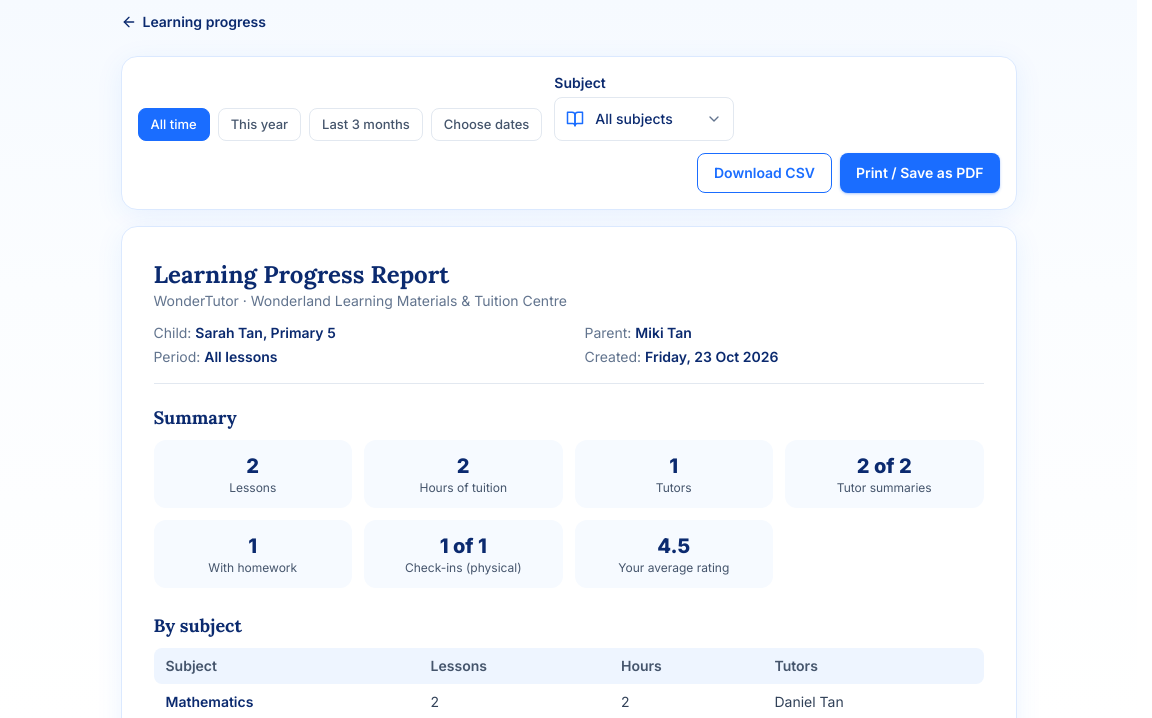
Test: progress report › refuses a period that ends before it starts, without asking the server
This screenshot has width=1152, height=718.
Check: the heading "Learning Progress Report" is shown, box [154, 259, 449, 290]
Click the radio button labelled "Choose dates".
click(487, 125)  # box [431, 108, 542, 141]
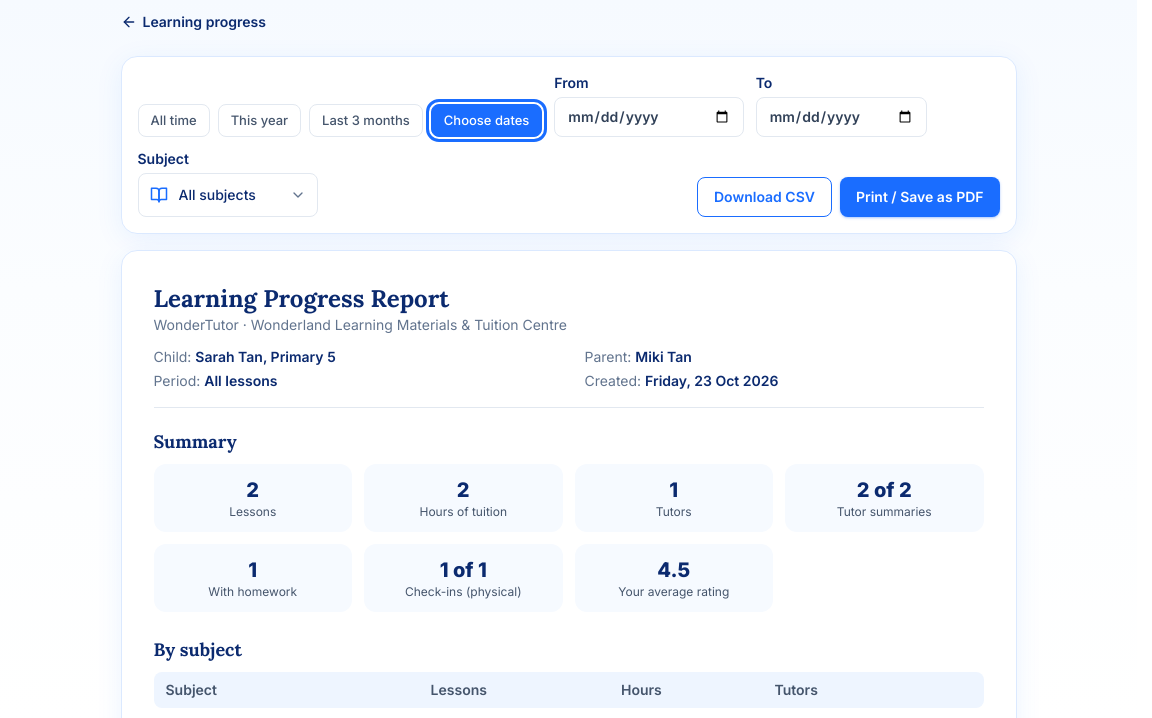
Type "2026-01-01" into the date field labelled "To".
click(841, 117); type("2026-01-01")  # box [756, 97, 927, 137]
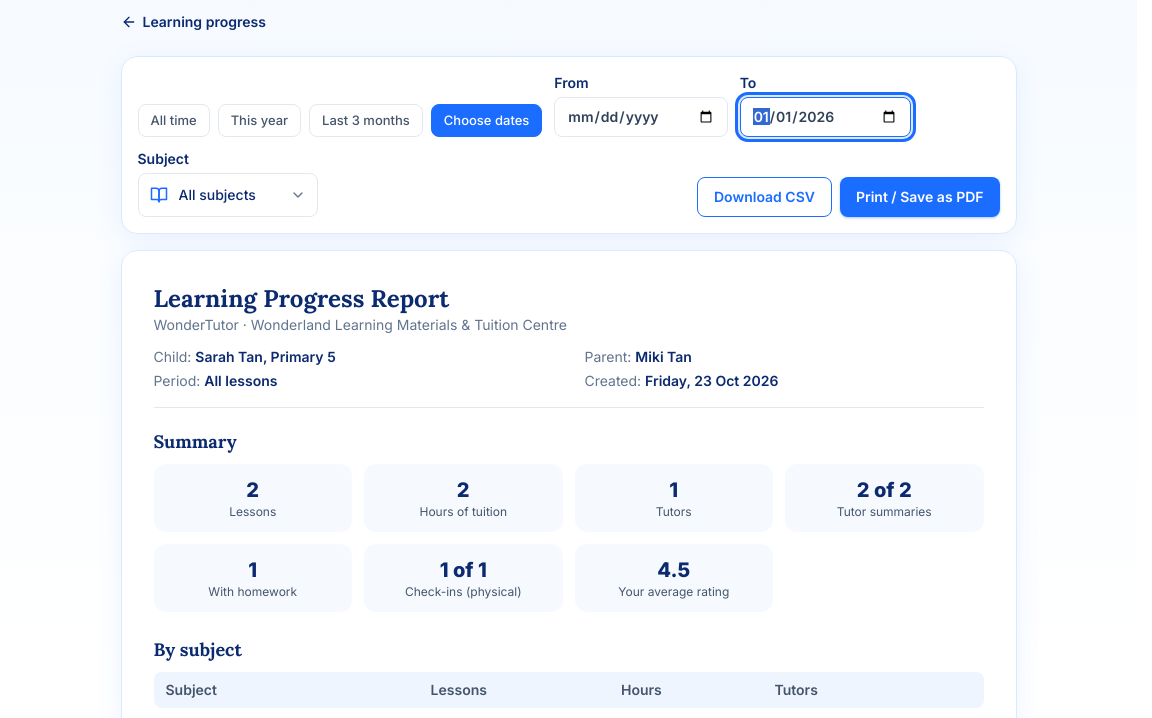
Type "2026-06-01" into the date field labelled "From".
click(641, 117); type("2026-06-01")  # box [554, 97, 728, 137]
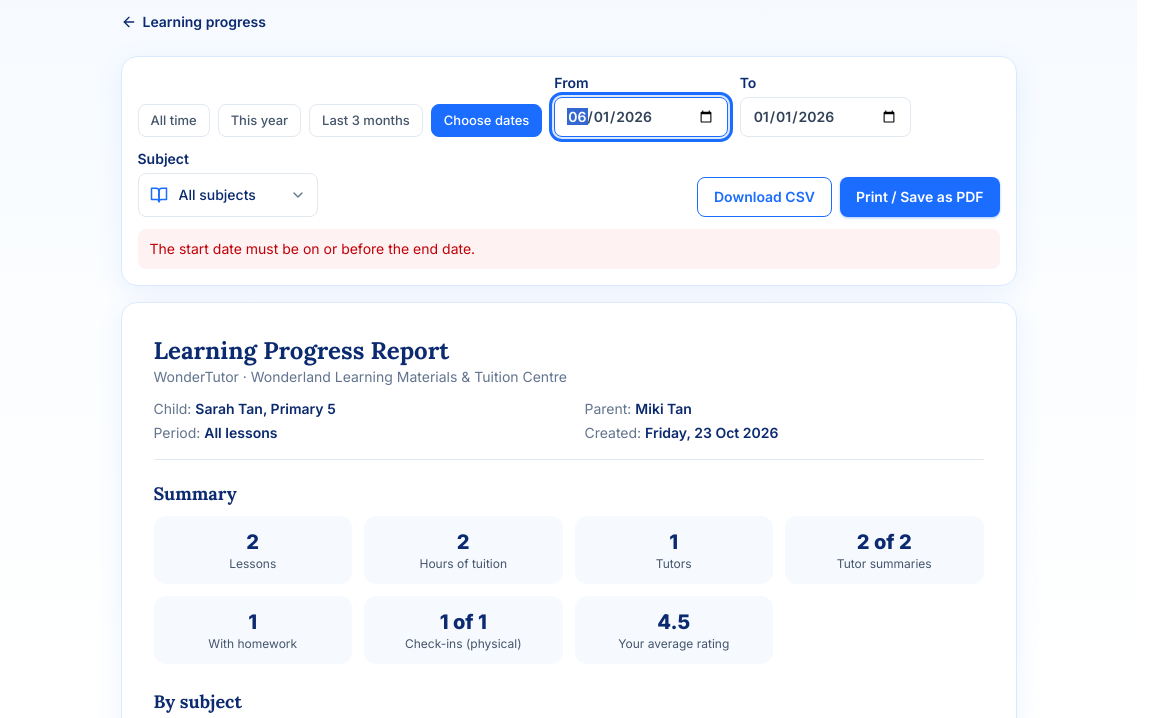
Check: the text "The start date must be on or before the end date." is shown, box [138, 229, 1000, 269]
